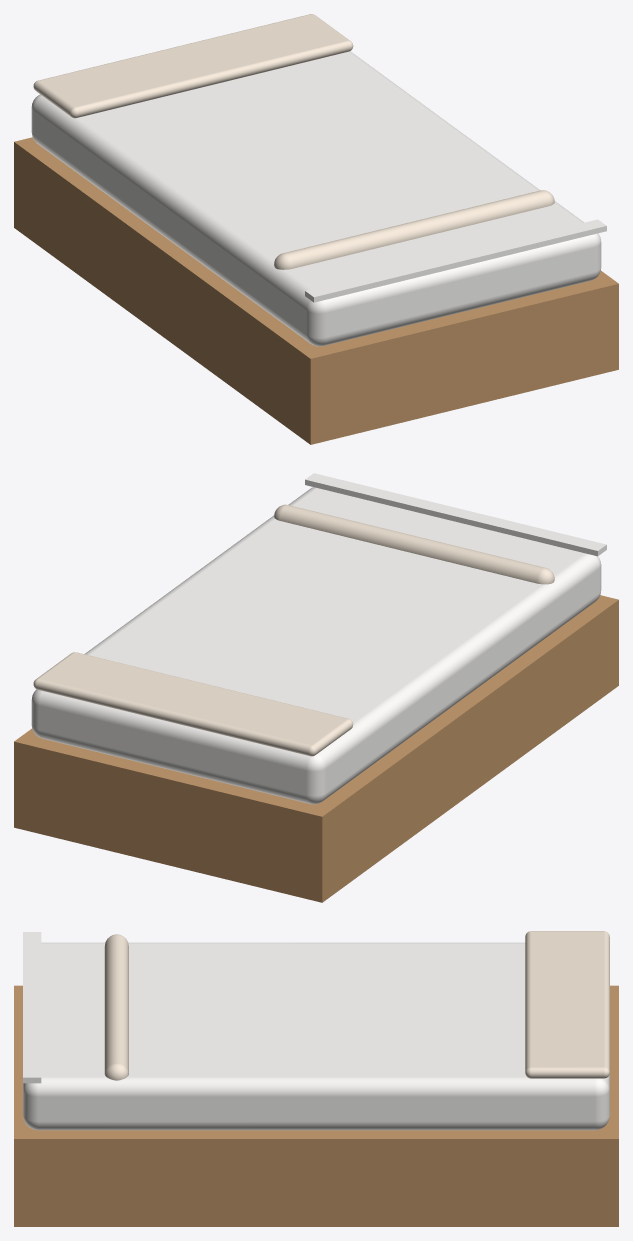
File: daybed.glb
The picture shows the model from 3 angles, top to bottom: view 1: azimuth 30°, elevation 25°; view 2: azimuth 150°, elevation 25°; view 3: azimuth 270°, elevation 25°; orthographic projection.
Parts seen in each view (by area): view 1: material-1-upholstery, material-0-body, material-2-cushion; view 2: material-1-upholstery, material-0-body, material-2-cushion; view 3: material-1-upholstery, material-0-body, material-2-cushion.
Boxes of the visible parts, x1,y1,x2,y2 form: material-1-upholstery: [31, 51, 606, 346]; material-0-body: [14, 137, 618, 444]; material-2-cushion: [33, 14, 554, 269]; material-1-upholstery: [31, 473, 606, 804]; material-0-body: [14, 595, 618, 902]; material-2-cushion: [33, 504, 554, 756]; material-1-upholstery: [23, 932, 609, 1130]; material-0-body: [14, 985, 618, 1226]; material-2-cushion: [104, 931, 609, 1080].
Size of the model in its own units: 1.2 by 0.55 by 2.
